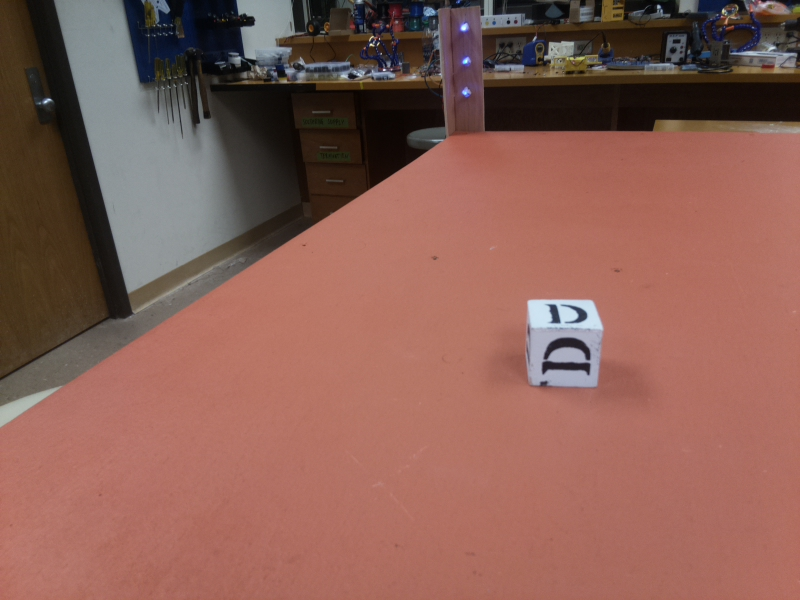blockD: (526, 299, 603, 390)
corner: (436, 8, 490, 136)
